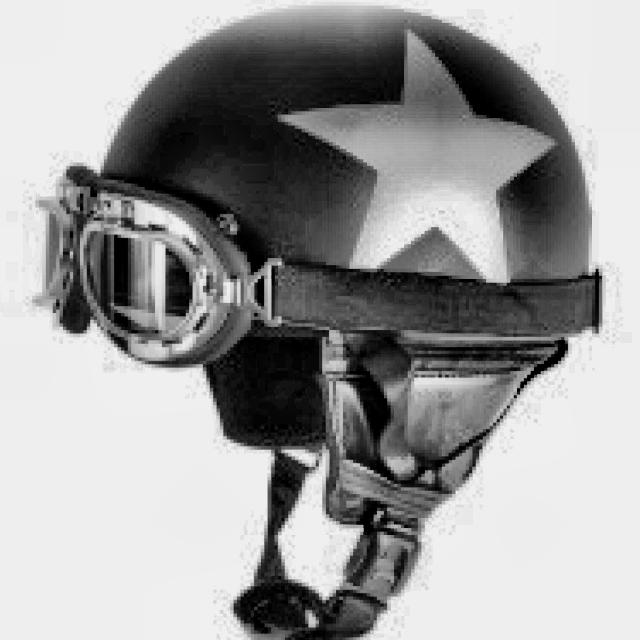Helmet: (40, 2, 630, 640)
